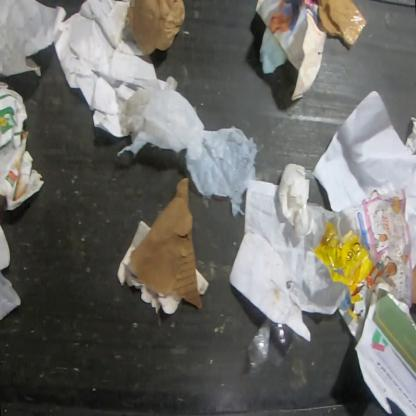cardboard: (129, 176, 203, 309), (229, 232, 312, 344), (116, 220, 182, 315), (0, 81, 45, 212), (317, 0, 367, 49), (0, 223, 12, 271), (196, 270, 210, 295), (410, 265, 416, 305)
soft_plastic: (115, 75, 260, 218), (308, 218, 377, 322), (240, 314, 291, 380), (259, 28, 288, 75)
